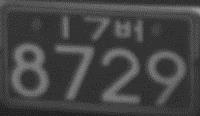1: (54, 13, 77, 39)
2: (101, 47, 142, 105)
7: (53, 43, 95, 101), (83, 14, 110, 41)
8: (11, 42, 49, 99)
9: (147, 49, 187, 105)
버: (114, 17, 144, 43)
